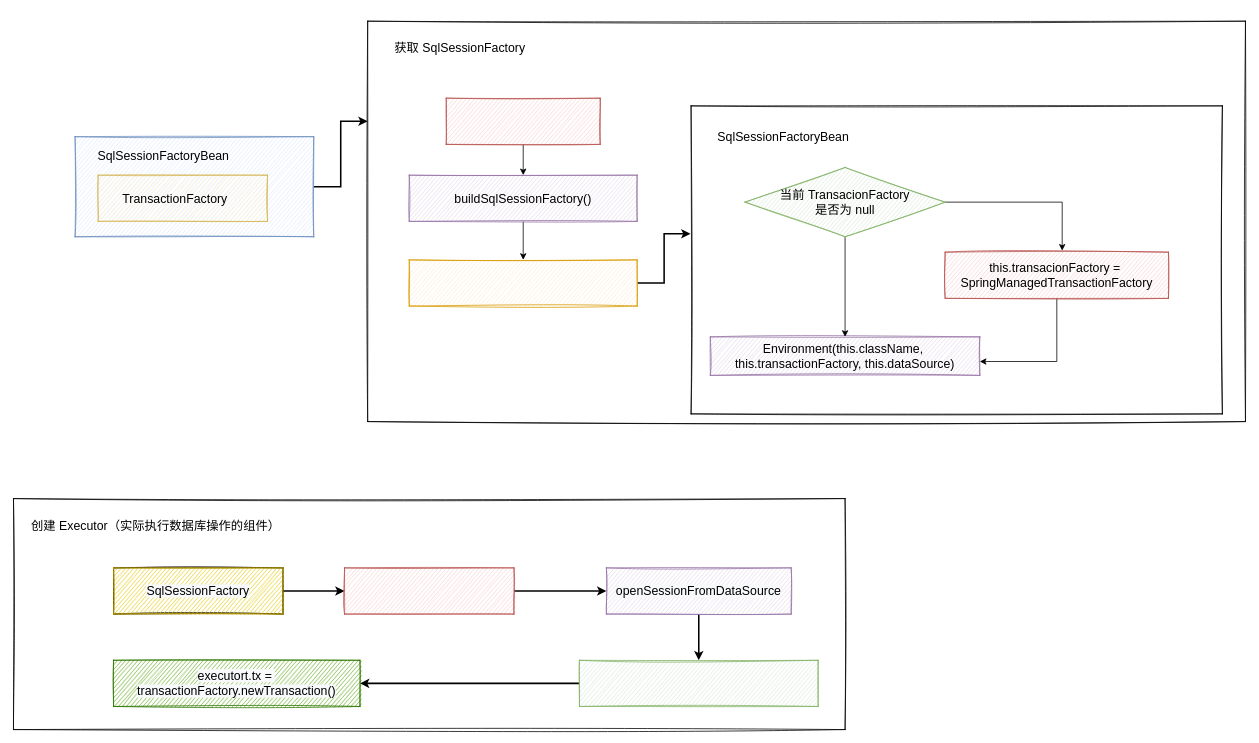
Some shapes in this 1259 by 743 pixel diagram are drawn without their labels. The centre of each missing label's shape, as x and y in pixels:
"getObject()" belongs at point 522,120.
"openSqlSession()" belongs at point 429,590.
"org.apache.ibatis.mapping.Environment #getTransactionFactory" belongs at point 698,683.
"org.apache.ibatis.session.Configuration #setEnvironment(Environment)" belongs at point 522,282.
